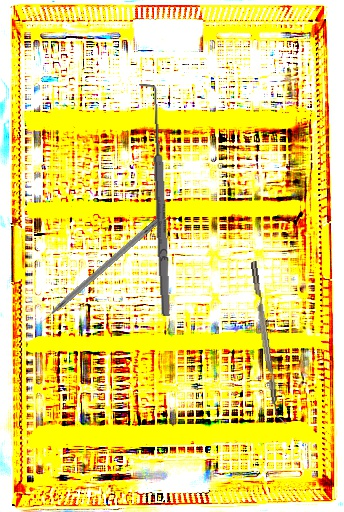Chopper: (250, 259, 288, 427)
Hook Surgical: (33, 211, 166, 329), (139, 83, 174, 317)
